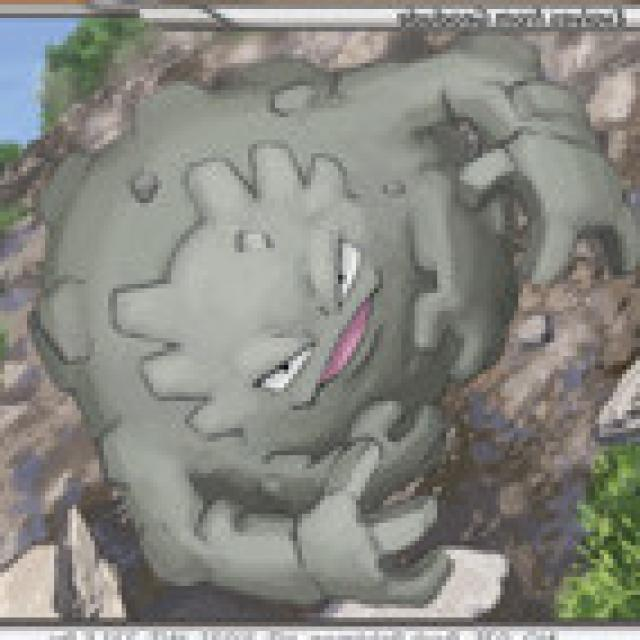Graveler: (9, 33, 620, 601)
